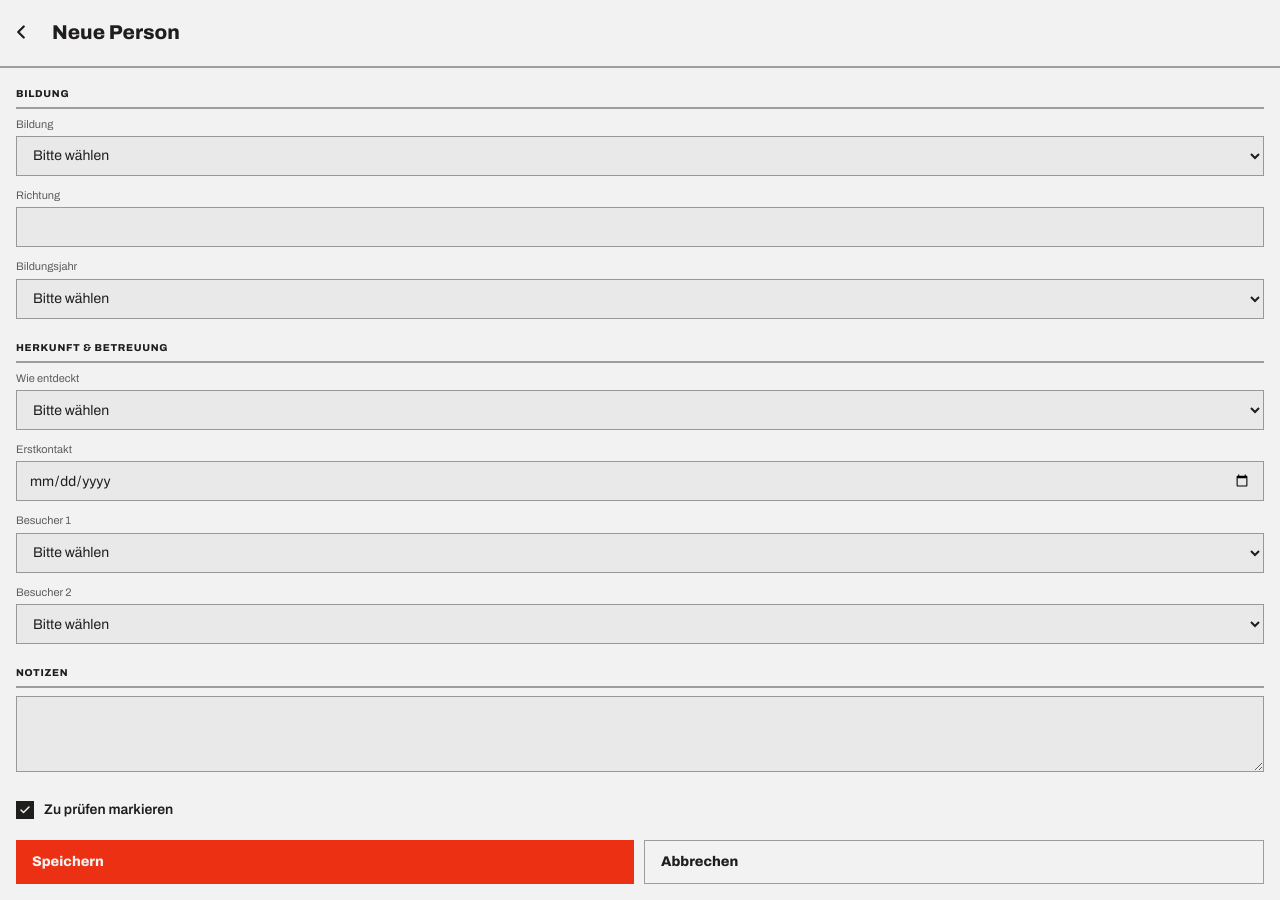
Test: PersonFormScreen (7.4) › blockiert das Speichern ohne Pflichtfelder (Vorname/Nachname/Status/Zuständig)
(page scrolled)
Click the button "Speichern".
click(68, 862)  # box [16, 840, 634, 884]
(page scrolled)
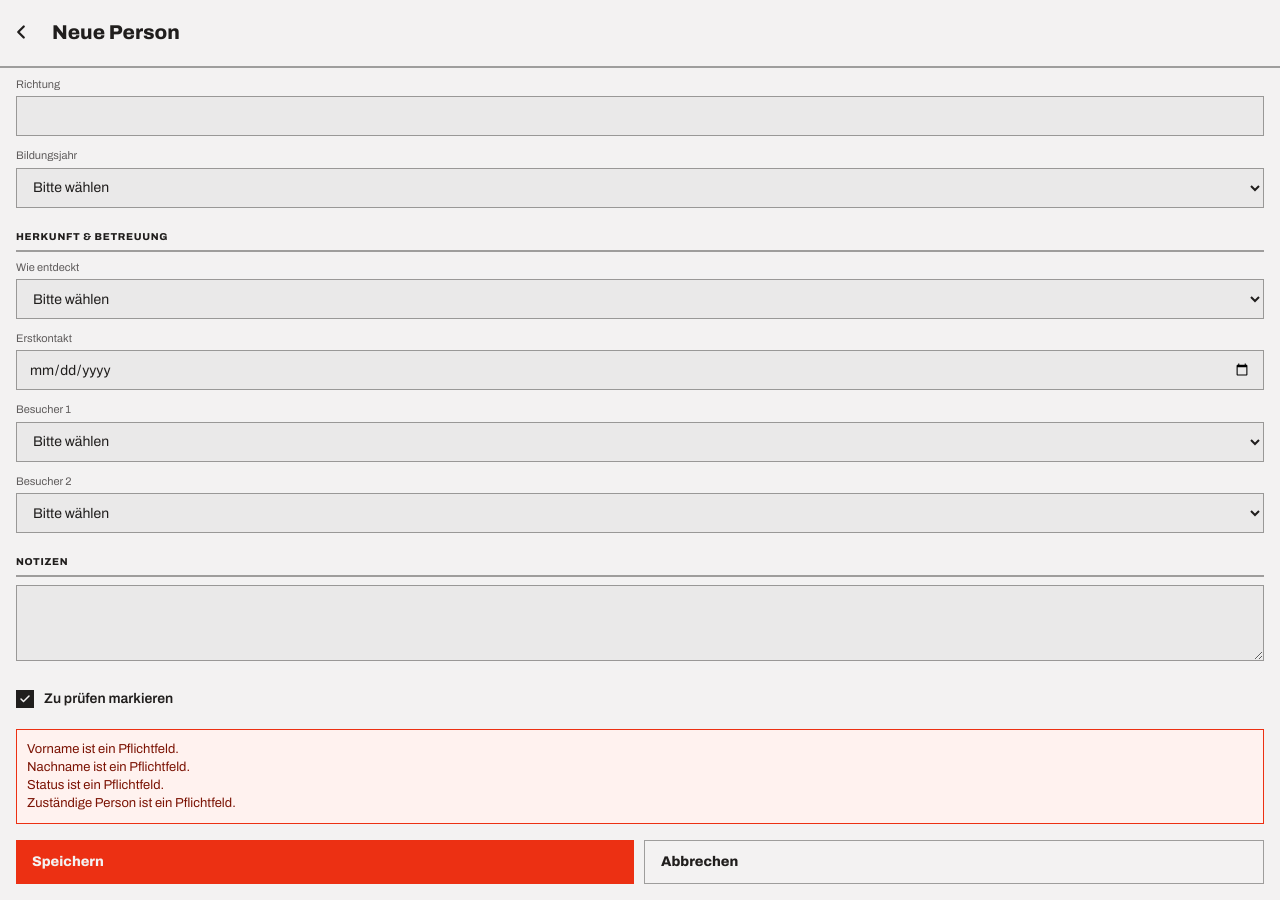
Result: the text "Vorname ist ein Pflichtfeld." is shown at [27, 742, 179, 756]
Result: the text "Nachname ist ein Pflichtfeld." is shown at [27, 760, 190, 774]
Result: the text "Status ist ein Pflichtfeld." is shown at [27, 778, 164, 792]
